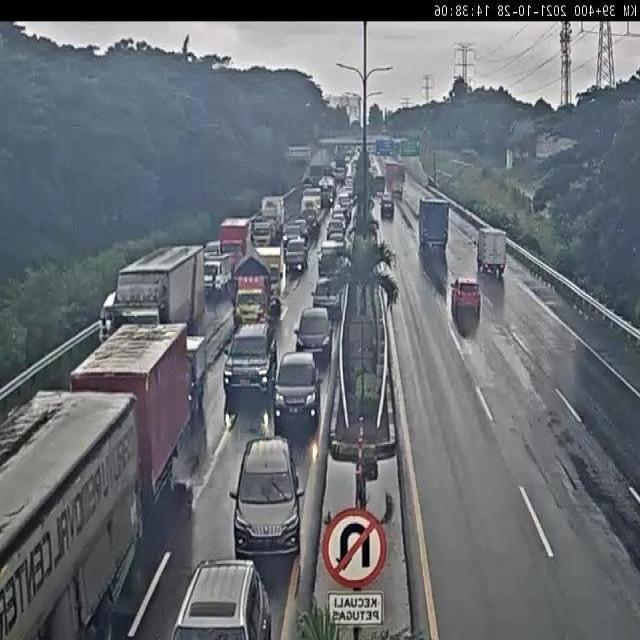Car: (232, 431, 300, 568), (169, 560, 276, 640), (275, 353, 323, 438), (222, 326, 272, 398), (293, 304, 332, 369), (449, 276, 483, 318), (308, 282, 343, 314), (283, 238, 311, 271), (380, 199, 394, 224)
Truck: (0, 324, 188, 640), (89, 244, 206, 334), (200, 220, 252, 293), (231, 248, 281, 321), (418, 196, 452, 254), (476, 224, 508, 279), (252, 194, 286, 245), (381, 158, 406, 199), (320, 173, 338, 210)
